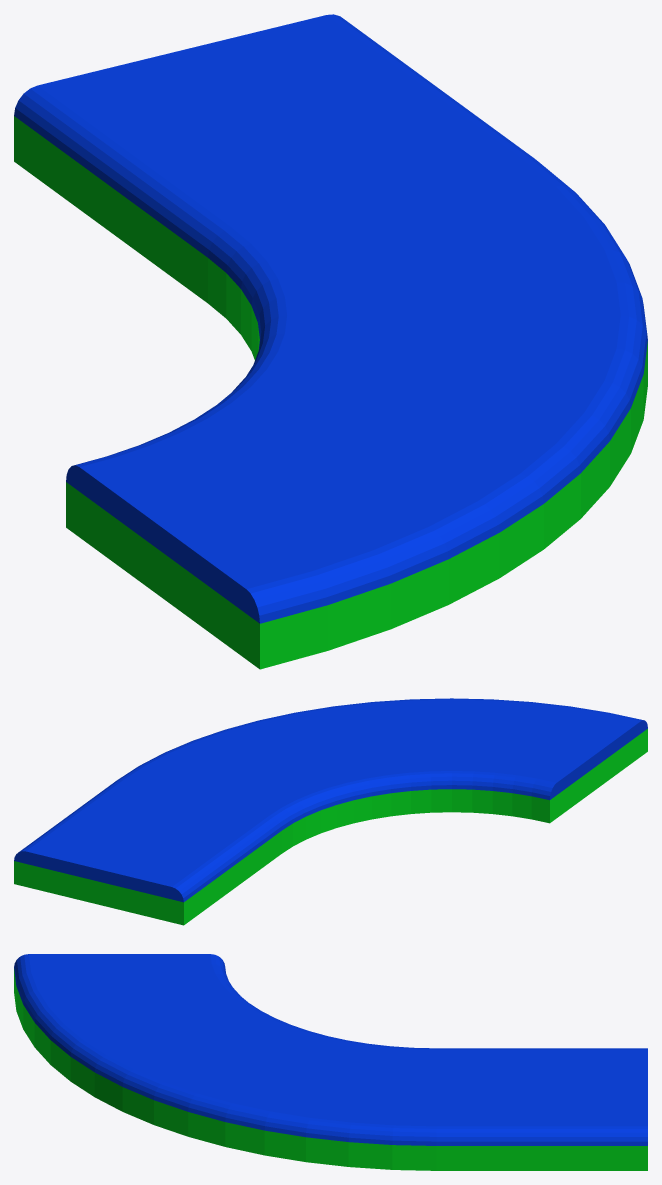
3 views of the same model, one above another, from view 1: azimuth 30°, elevation 25°; view 2: azimuth 150°, elevation 25°; view 3: azimuth 270°, elevation 25° (orthographic). The views are drawn at different scales.
Visible parts, largest first — view 1: plank17; view 2: plank17; view 3: plank17.
Boxes of the visible parts, <box> form: plank17: <box>14,14,647,669</box>; plank17: <box>14,698,647,925</box>; plank17: <box>14,954,647,1170</box>.
Size of the model in its own units: 1000 by 100 by 1500.
